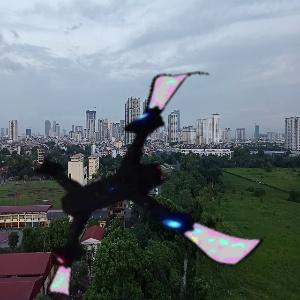drone: (24, 66, 255, 297)
